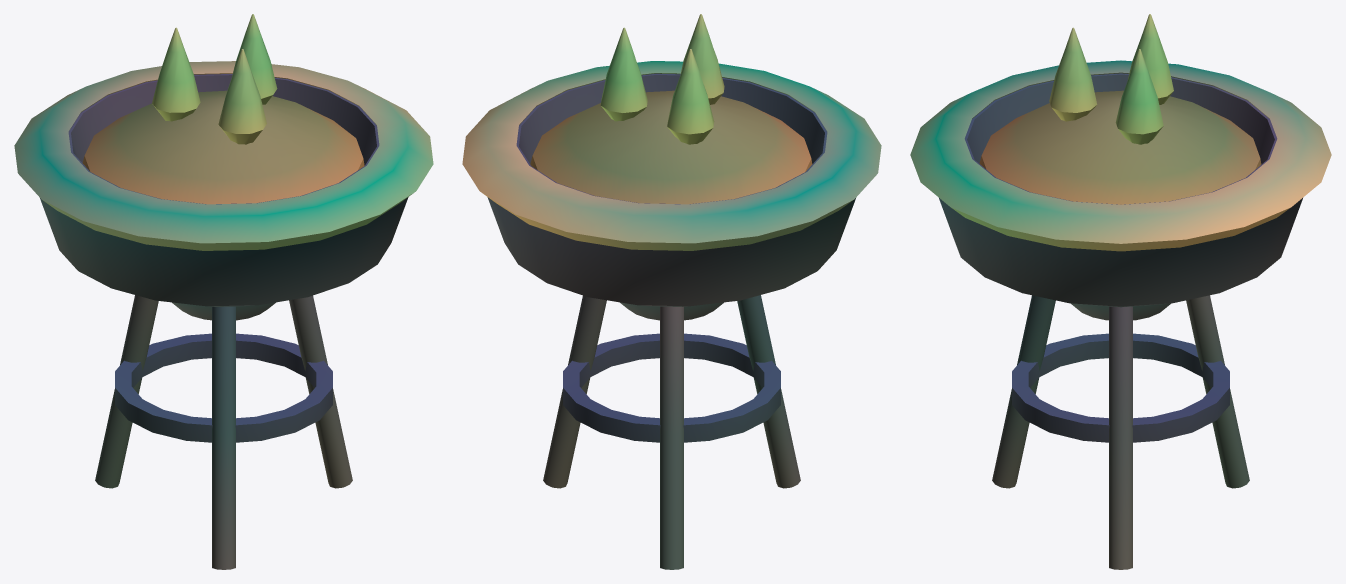
Rendered from brazier_lit.glb.
The picture shows the model from 3 angles, left to right: view 1: azimuth 30°, elevation 25°; view 2: azimuth 150°, elevation 25°; view 3: azimuth 270°, elevation 25°; orthographic projection.
Parts seen in each view (by area): view 1: bowl_rim, bowl, brazier_embers, leg_ring, leg.002, leg.001, leg, brazier_flame2, brazier_flame1, brazier_flame0; view 2: bowl_rim, bowl, brazier_embers, leg_ring, leg.001, leg.002, leg, brazier_flame1, brazier_flame0, brazier_flame2; view 3: bowl_rim, bowl, brazier_embers, leg_ring, leg, leg.001, leg.002, brazier_flame0, brazier_flame2, brazier_flame1.
Boxes of the visible parts, box(x1,y1,x2,y2) form: bowl_rim: box(14, 61, 433, 250); bowl: box(40, 74, 408, 320); brazier_embers: box(82, 90, 364, 204); leg_ring: box(115, 333, 332, 442); leg.002: box(212, 306, 235, 569); leg.001: box(95, 295, 158, 488); leg: box(289, 295, 352, 488); brazier_flame2: box(218, 49, 266, 144); brazier_flame1: box(152, 27, 200, 121); brazier_flame0: box(232, 14, 277, 104); bowl_rim: box(462, 61, 881, 250); bowl: box(487, 73, 855, 320); brazier_embers: box(530, 90, 812, 204); leg_ring: box(563, 333, 780, 442); leg.001: box(660, 306, 683, 569); leg.002: box(737, 295, 800, 488); leg: box(543, 295, 606, 488); brazier_flame1: box(667, 49, 714, 144); brazier_flame0: box(600, 27, 647, 121); brazier_flame2: box(681, 14, 724, 104); bowl_rim: box(910, 60, 1331, 251); bowl: box(939, 73, 1302, 320); brazier_embers: box(979, 90, 1261, 204); leg_ring: box(1012, 333, 1229, 442); leg: box(1109, 306, 1132, 569); leg.001: box(1186, 295, 1249, 488); leg.002: box(992, 295, 1055, 488); brazier_flame0: box(1115, 49, 1163, 144); brazier_flame2: box(1049, 27, 1097, 121); brazier_flame1: box(1127, 14, 1173, 104).
Bounding box in the file's own units: 0.876 × 1.11 × 0.876.
